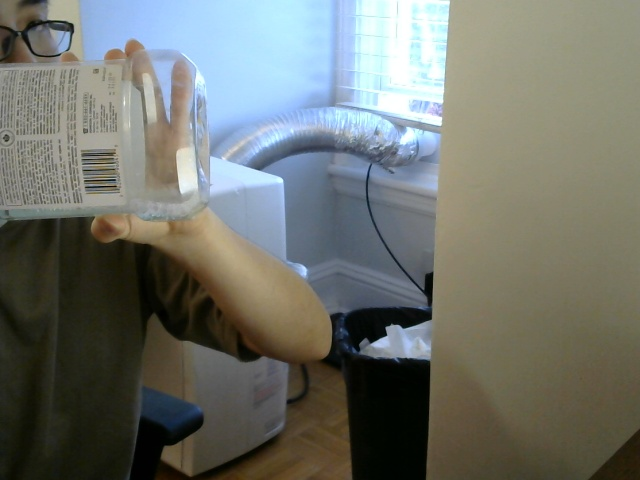Barcode: (78, 146, 122, 196)
